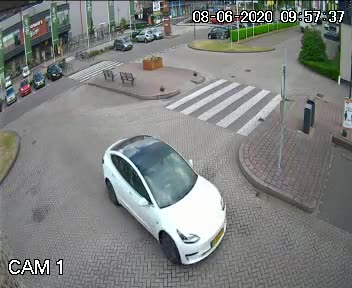car: (92, 127, 249, 270)
